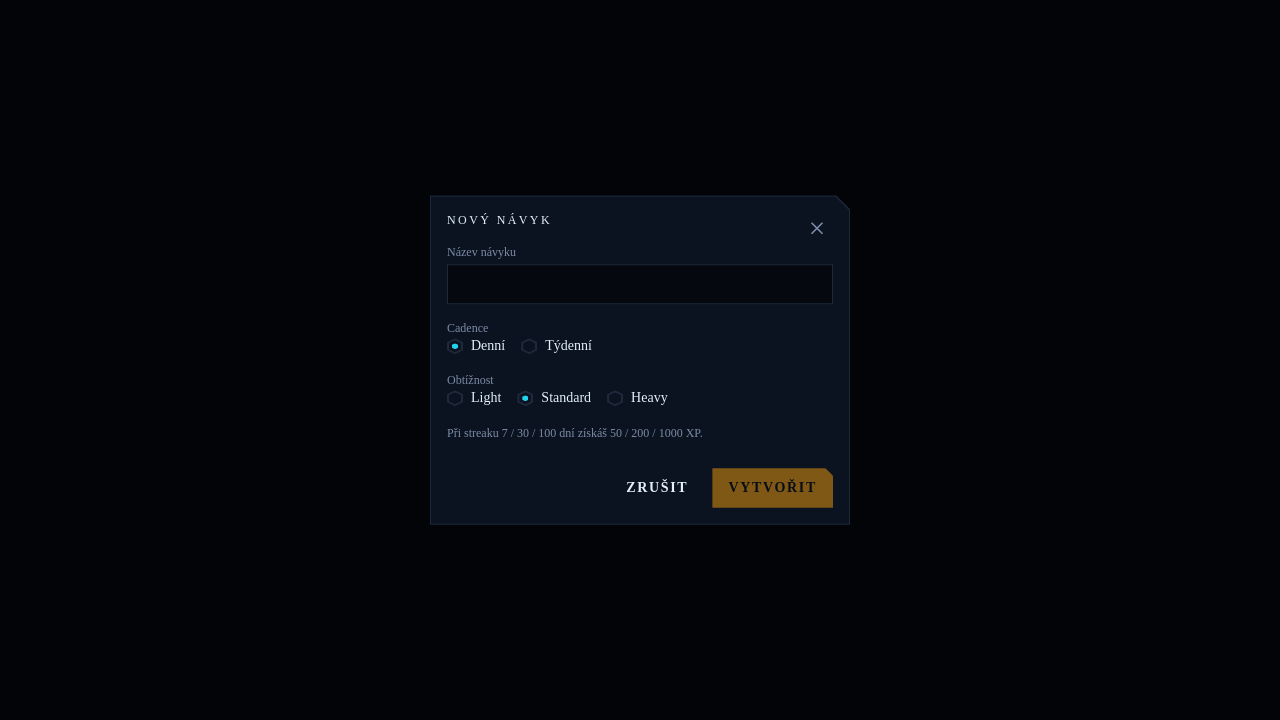
Scenario: HabitDialog (create mode) › updates the XP info text when weight changes
Expected: the text "Při streaku 7 / 30 / 100 dní získáš 50 / 200 / 1000 XP." is shown, [447,426,703,440]
Click the radio button labelled "heavy" at x=637, y=398, box [607,388,668,408]
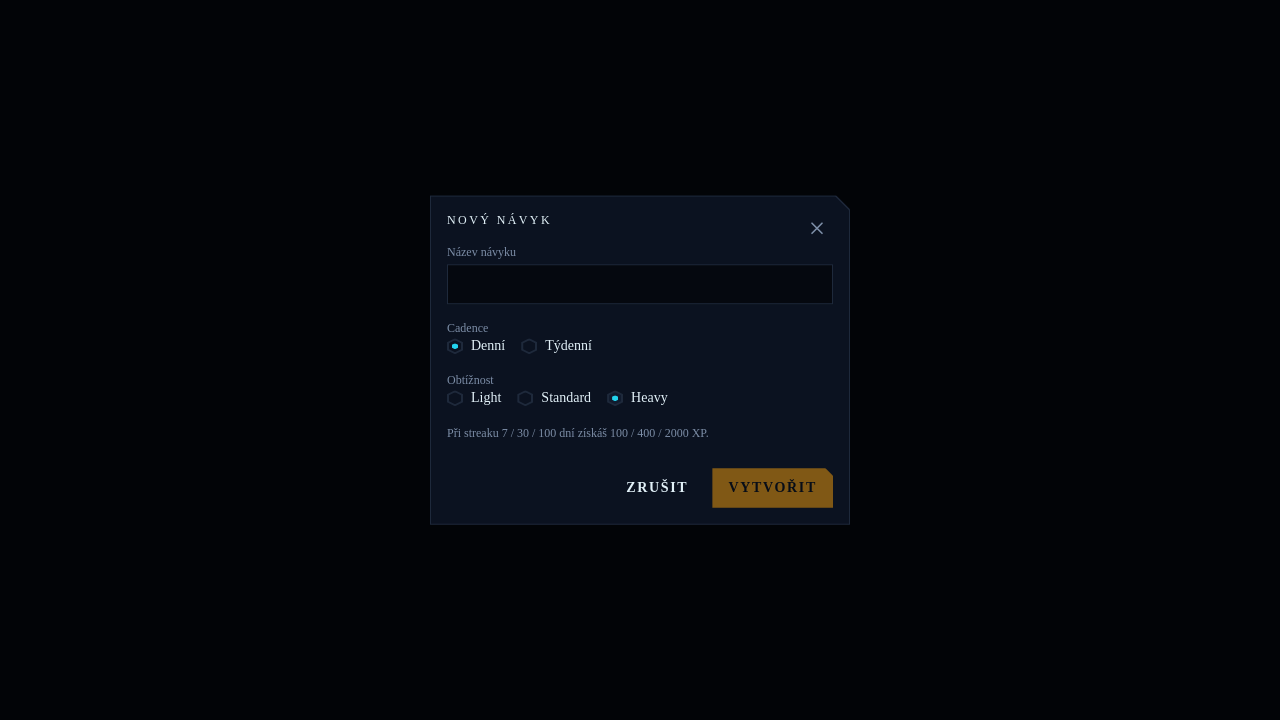
Now the text "Při streaku 7 / 30 / 100 dní získáš 100 / 400 / 2000 XP." is shown, box [447,426,709,440]
Click the radio button labelled "light" at x=474, y=398, box [447,388,501,408]
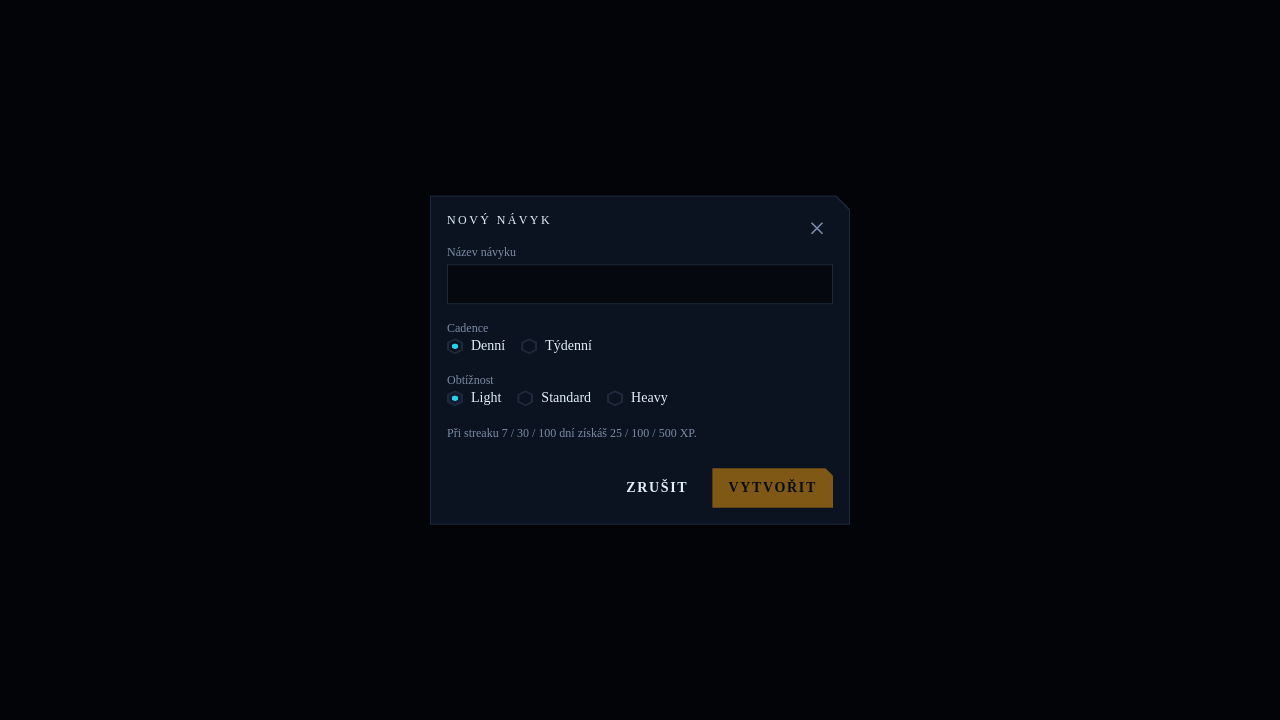
Now the text "Při streaku 7 / 30 / 100 dní získáš 25 / 100 / 500 XP." is shown, box [447,426,697,440]
